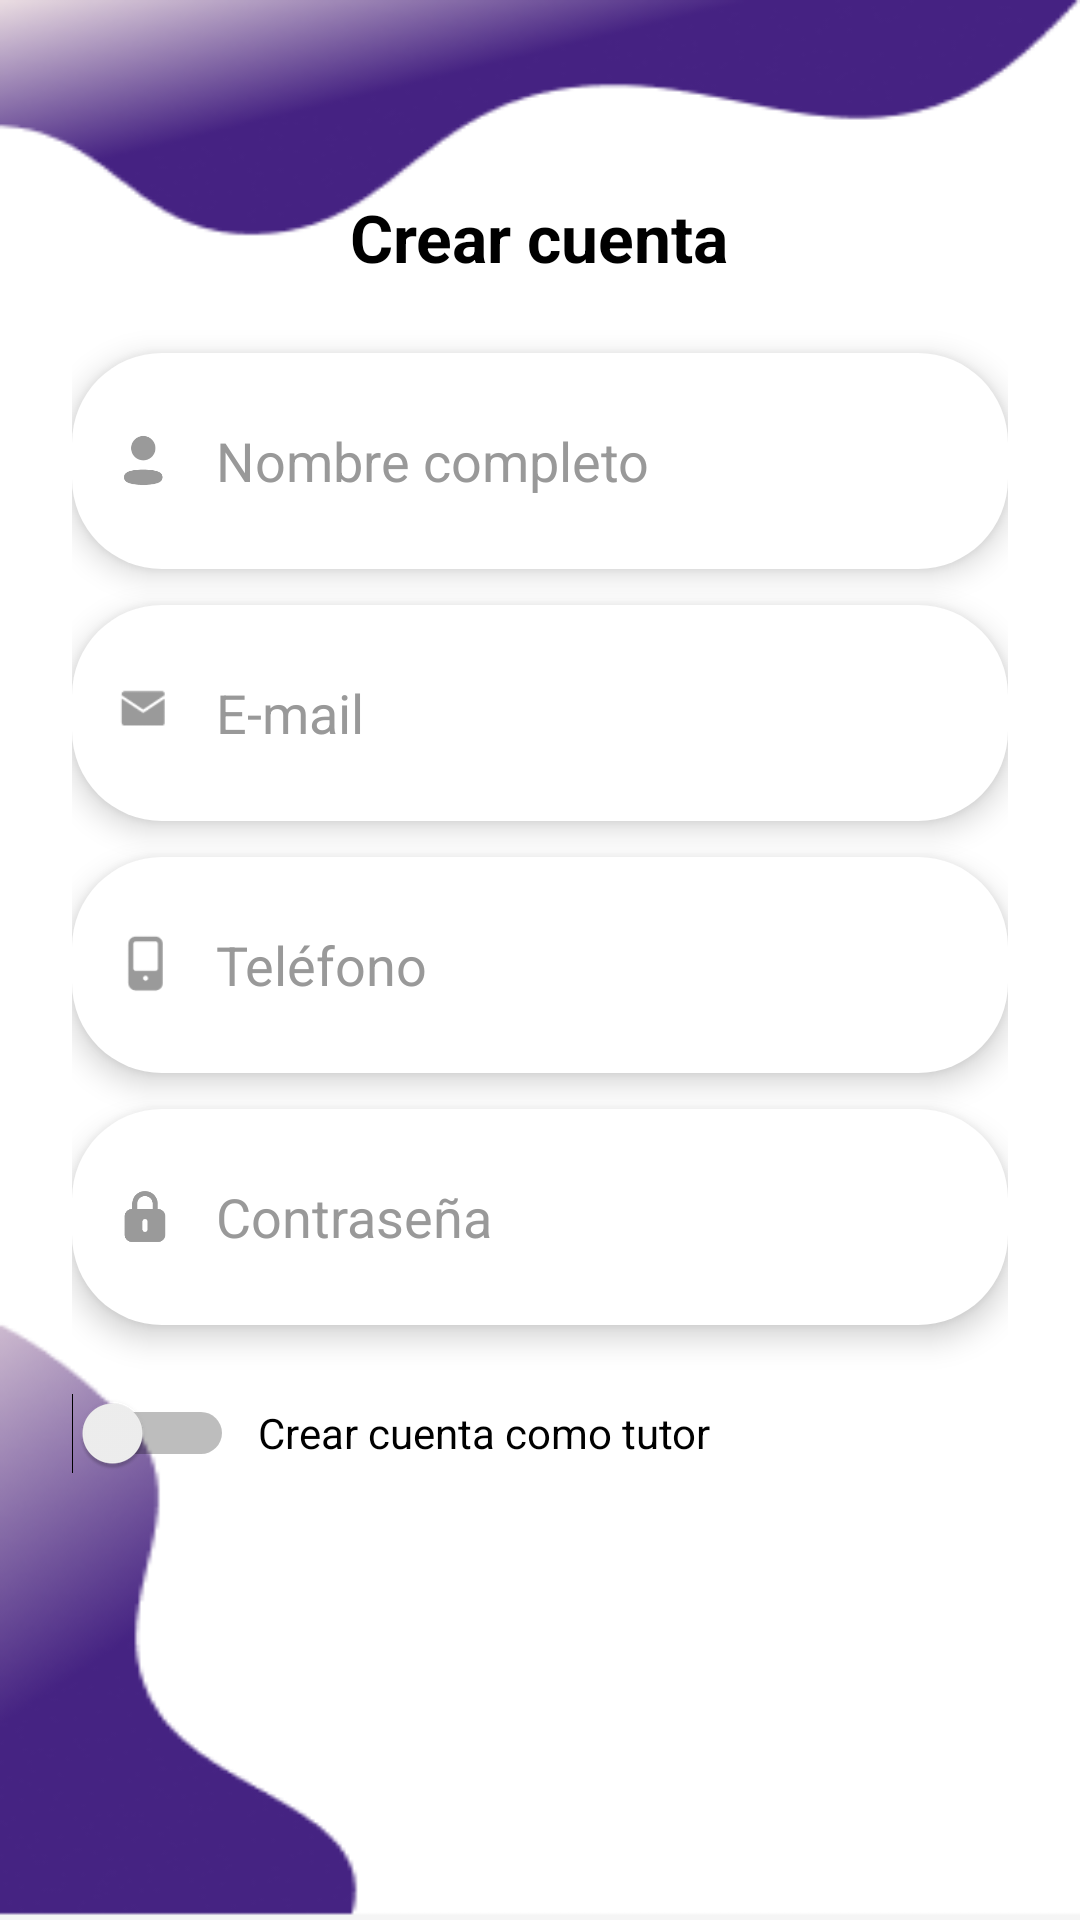

Where icons sit on this 1080px×1920px app screen, as (x1, y1, x2, y2):
Icono usuario: (124, 436, 163, 485)
